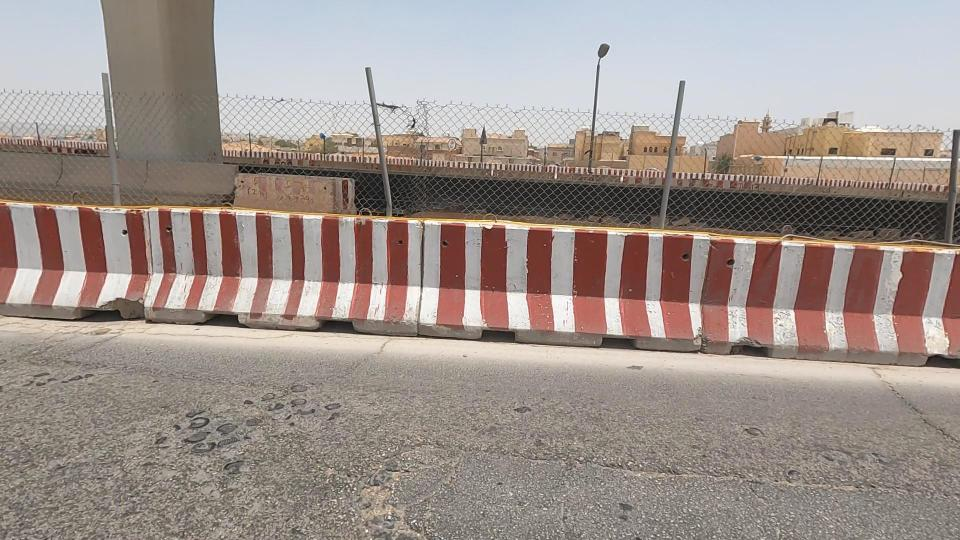CONSTRUCTION_ROAD: (231, 89, 691, 432), (0, 55, 415, 410), (476, 119, 960, 409)
